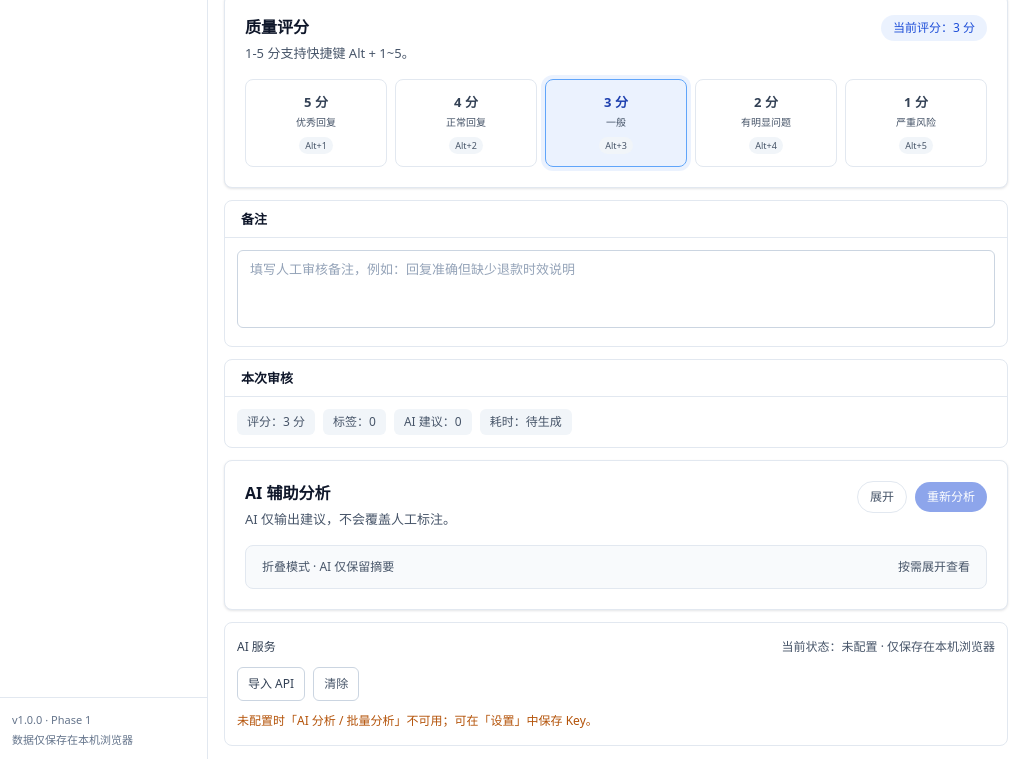
Test: F. AI 分析 › 「导入 API」输入空字符串 → 清除已配置的 Key
(page scrolled)
What coordinates should you click on to do the following:
click the button "导入 API"
I would click on:
 (271, 684)
Its box is [237,667,305,701].
(page scrolled)
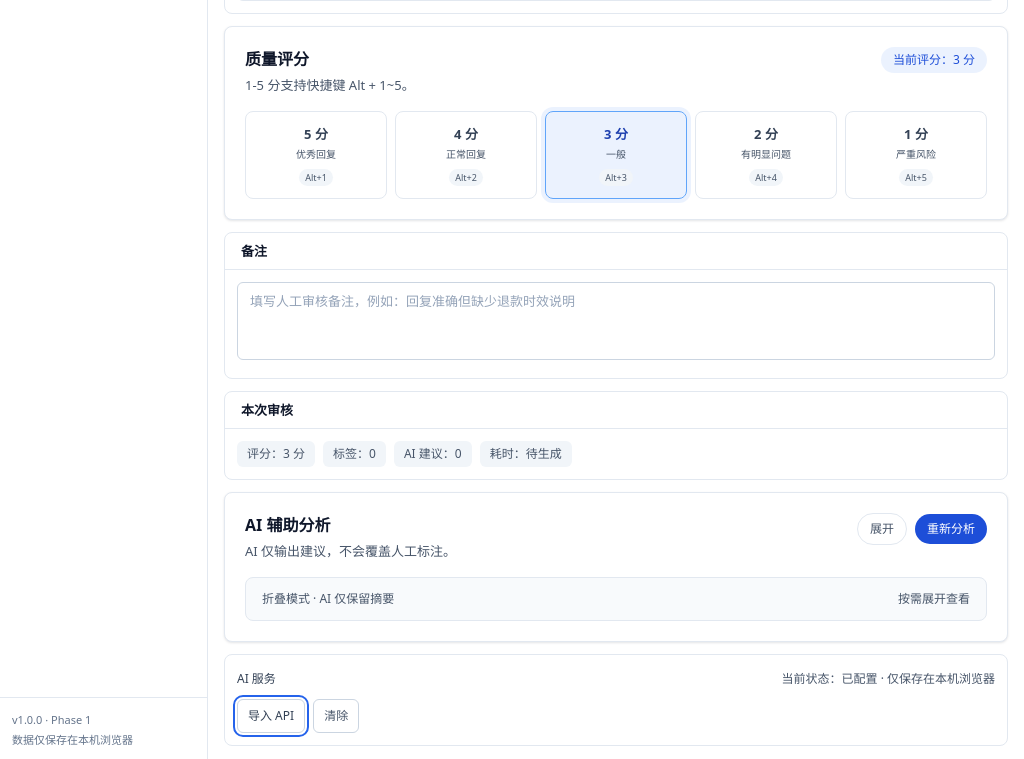
Now the text "当前状态：已配置 · 仅保存在本机浏览器" is shown, box [782,667,995,691]
What coordinates should you click on to do the following:
click the button "导入 API"
I would click on:
 (271, 716)
Its box is [237,699,305,733].
(page scrolled)
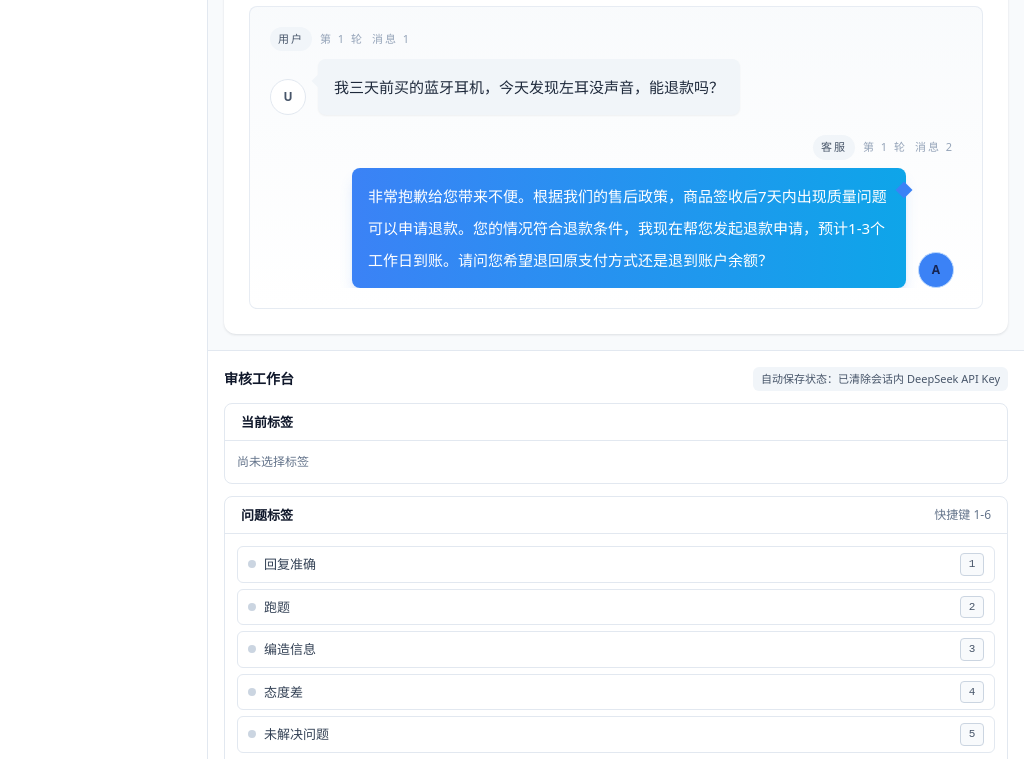
Now the text "自动保存状态：已清除会话内 DeepSeek API Key" is shown, box [753,366,1008,391]
